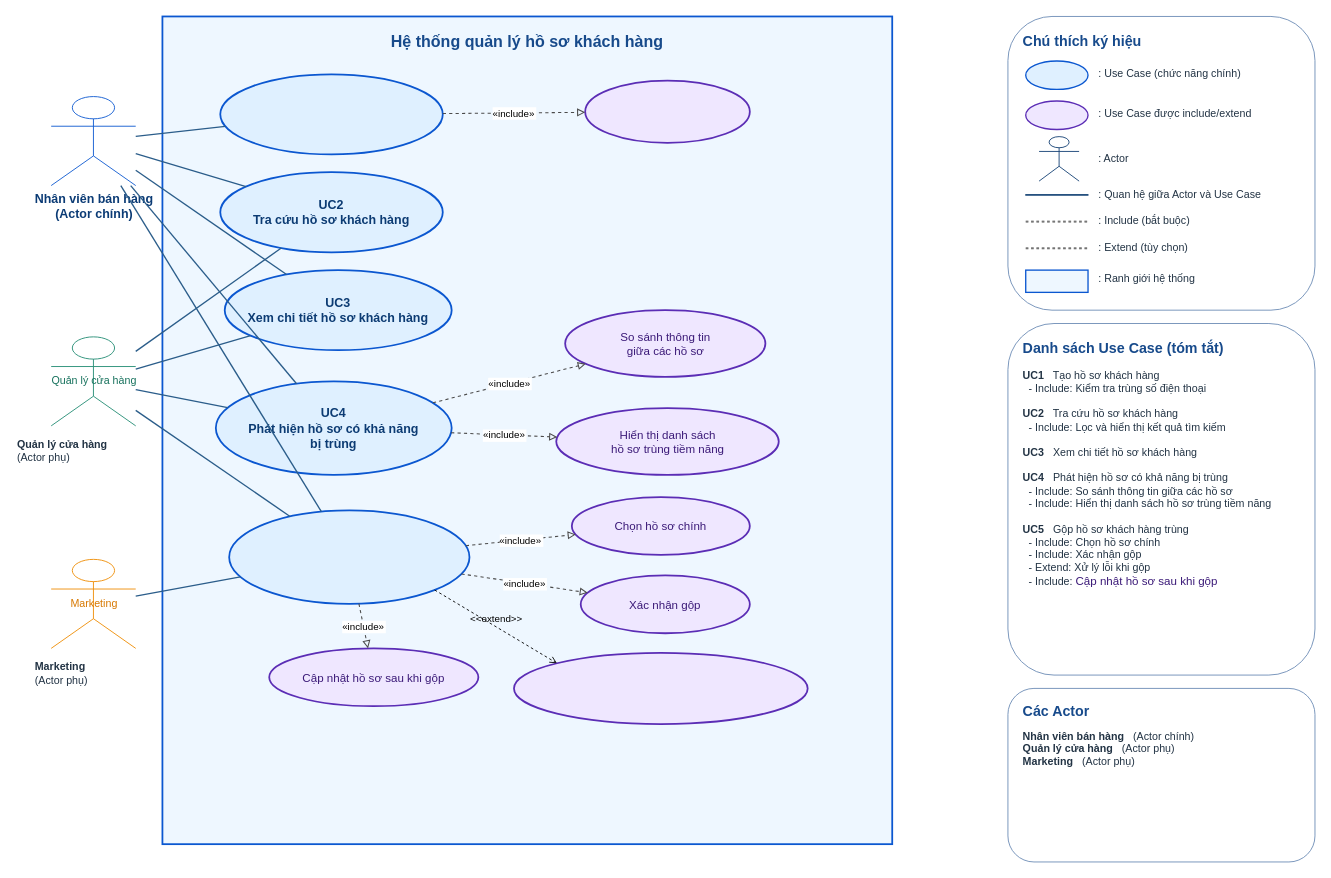
The diagram is 1331 pixels wide and 878 high, and some of its shapes have lost their labels. The shapes that lost their labels are listed below. From the top down, each one's centre as x and y in pixels, then its label:
the point at 331,114: UC1 Tạo hồ sơ khách hàng
the point at 667,111: Kiểm tra trùng số điện thoại
the point at 93,141: Nhân viên bán hàng
the point at 349,556: UC5 Gộp hồ sơ khách hàng trùng
the point at 660,687: Xử lý lỗi khi gộp (không đủ điều kiện, dữ liệu không hợp lệ)
